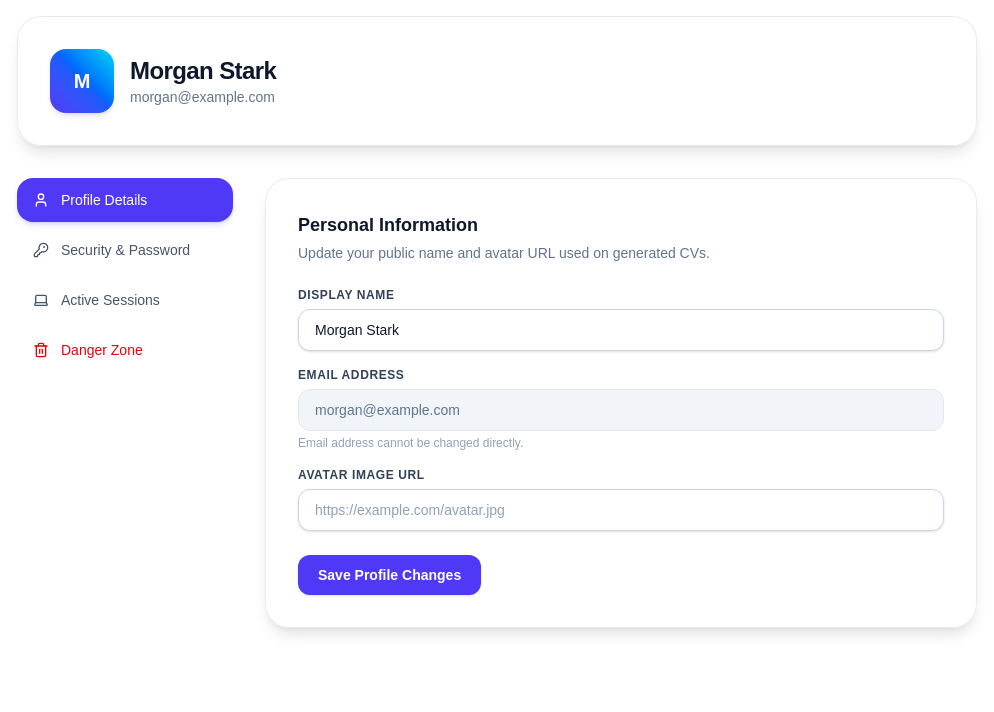
Test case: AccountDashboard (Ticket 05) › validates password change fields and submits update
Switch to Security tab
Click the button with test id "tab-security". click: (125, 250)
box: x1=17 y1=228 x2=233 y2=272
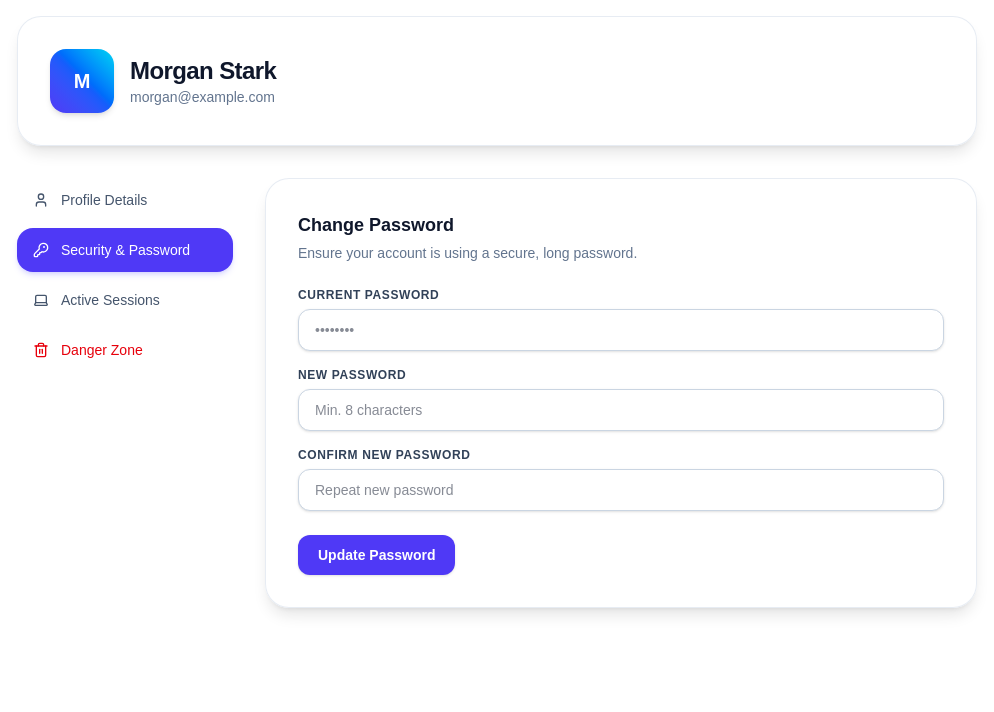
Validation: empty current password
Click the button with test id "password-update-btn". click: (377, 555)
box: x1=298 y1=535 x2=456 y2=575
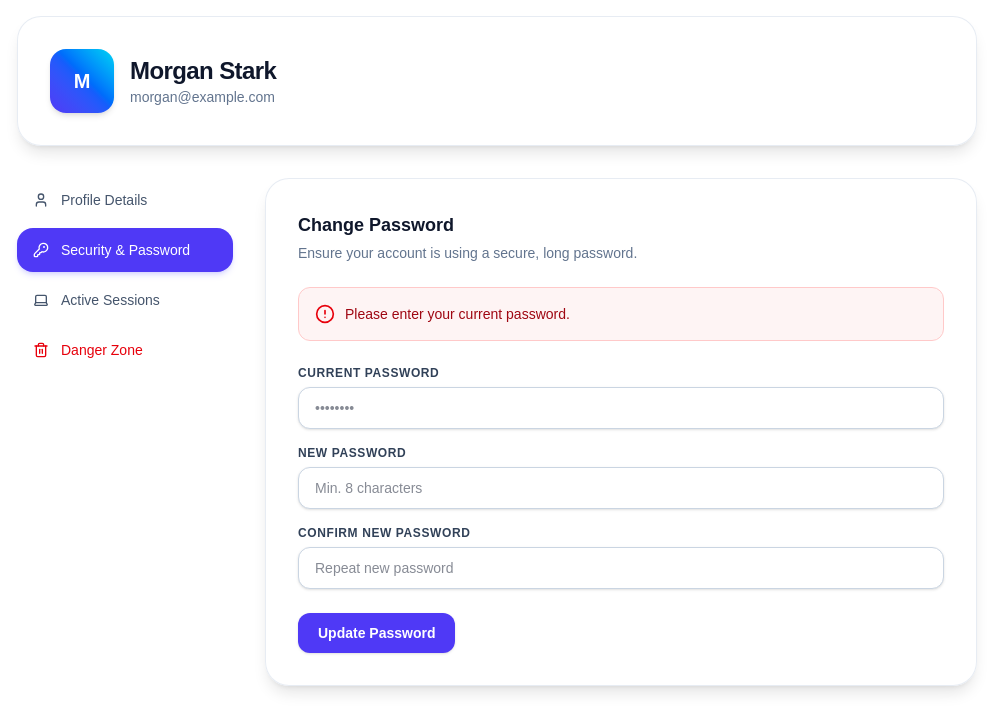
expect the text "Please enter your current password." is shown: met, box x1=345 y1=304 x2=570 y2=324
Fill valid passwords
Type "old_pass_123" into the password field labelled "Current Password". click: (621, 408)
box: x1=298 y1=387 x2=944 y2=429
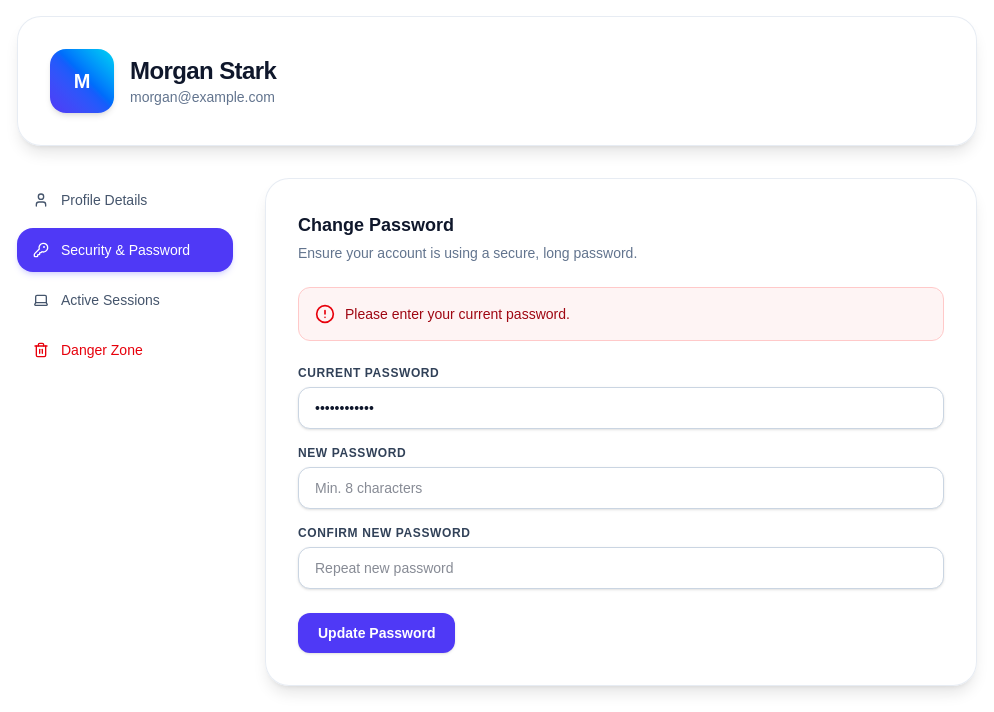
Type "new_pass_456" into the password field labelled "New Password". click: (621, 488)
box: x1=298 y1=467 x2=944 y2=509
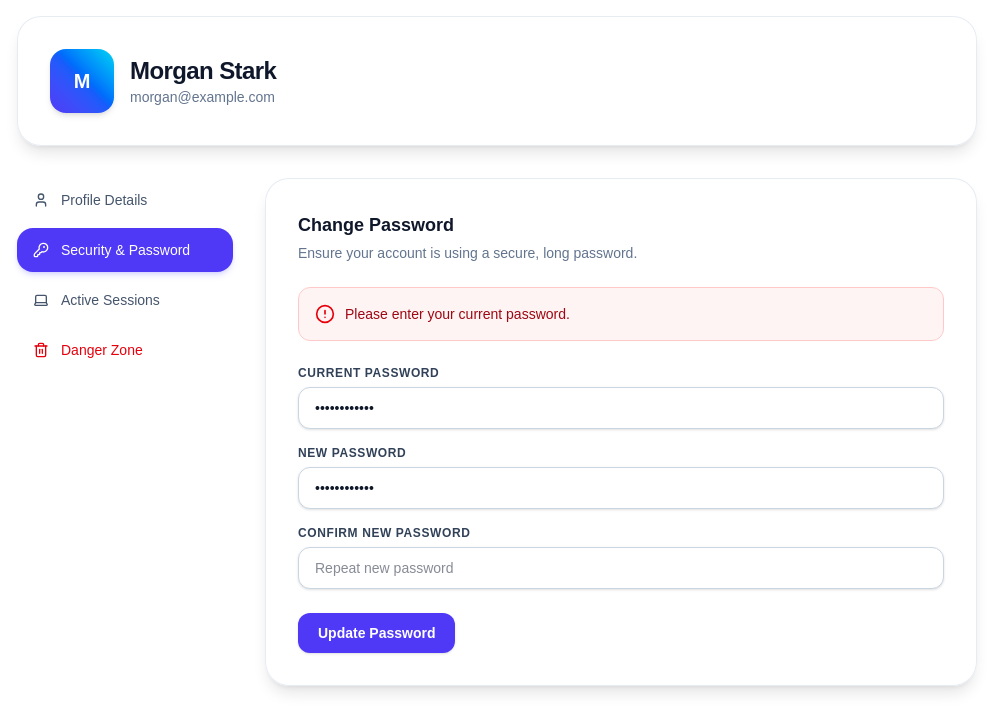
Type "new_pass_456" into the password field labelled "Confirm New Password". click: (621, 568)
box: x1=298 y1=547 x2=944 y2=589
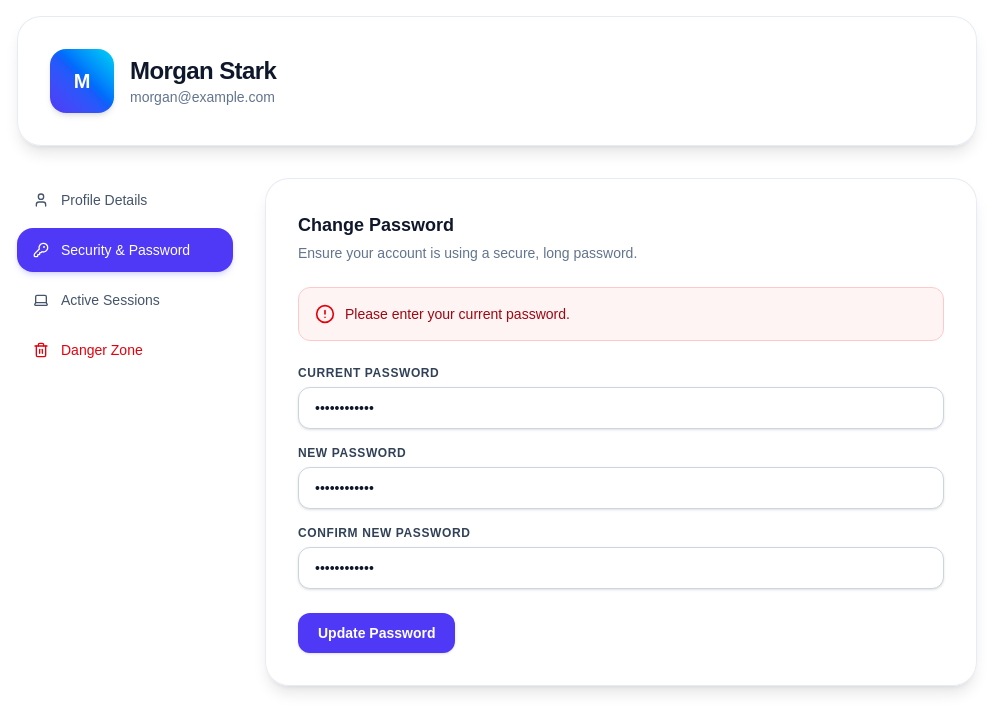
Click the button with test id "password-update-btn". click: (377, 633)
box: x1=298 y1=613 x2=456 y2=653
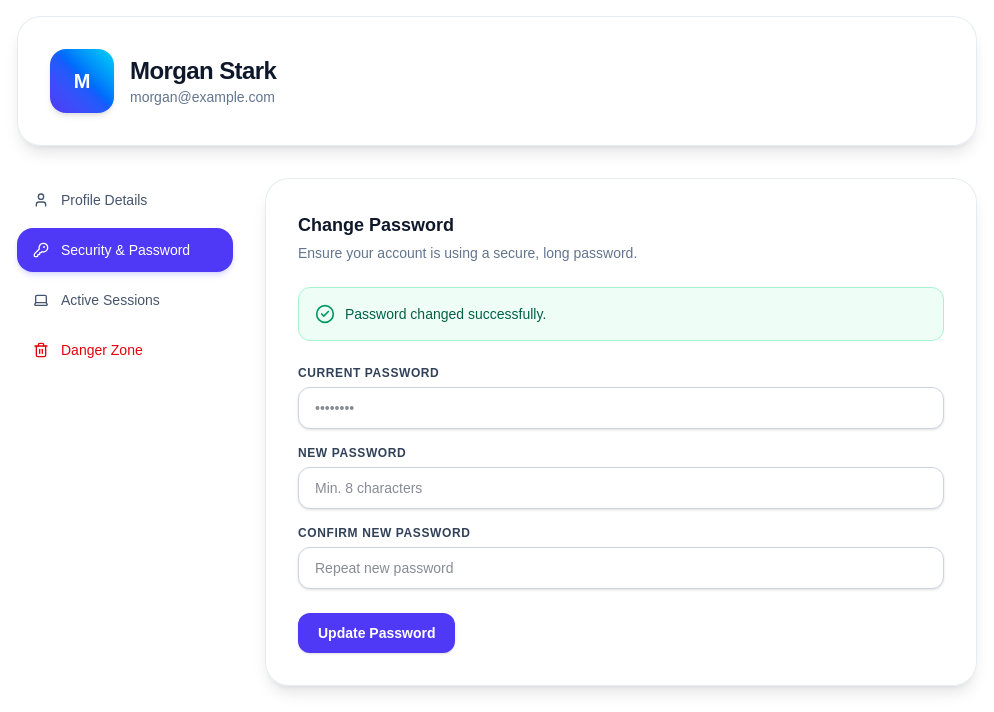
expect the message with test id "password-success-alert" shows "Password changed successfully": met, box x1=345 y1=306 x2=546 y2=322
